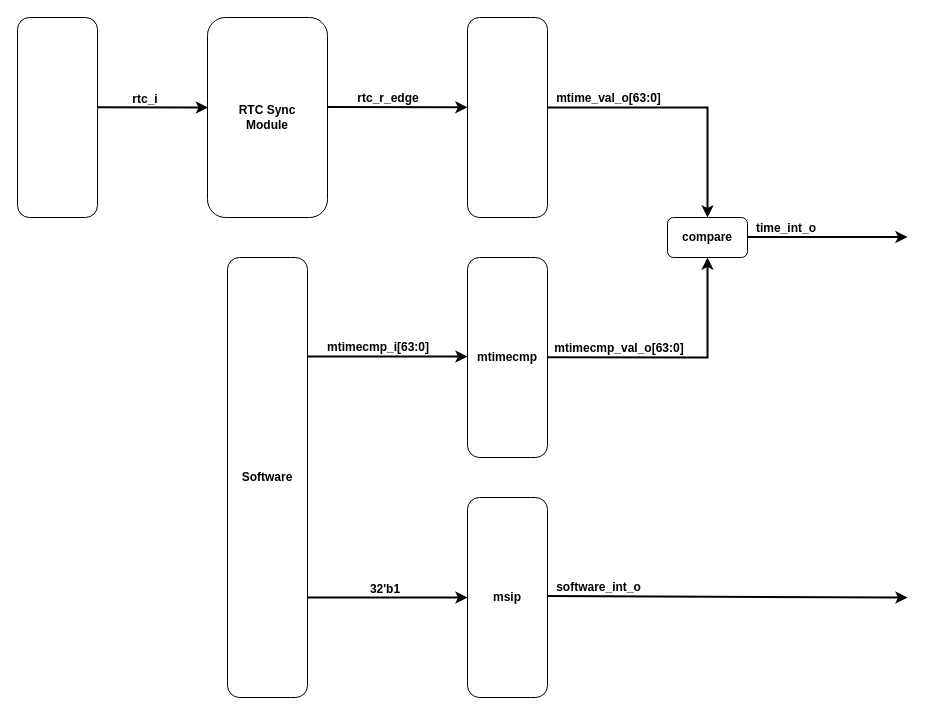
Some shapes in this 934 by 715 pixel diagram are drawn without their labels. The shapes that lost their labels are listed below. From the top down, each one's centre as x and y in pixels, then its label:
At (x=57, y=117): "RTC".
At (x=507, y=117): "mtime".
